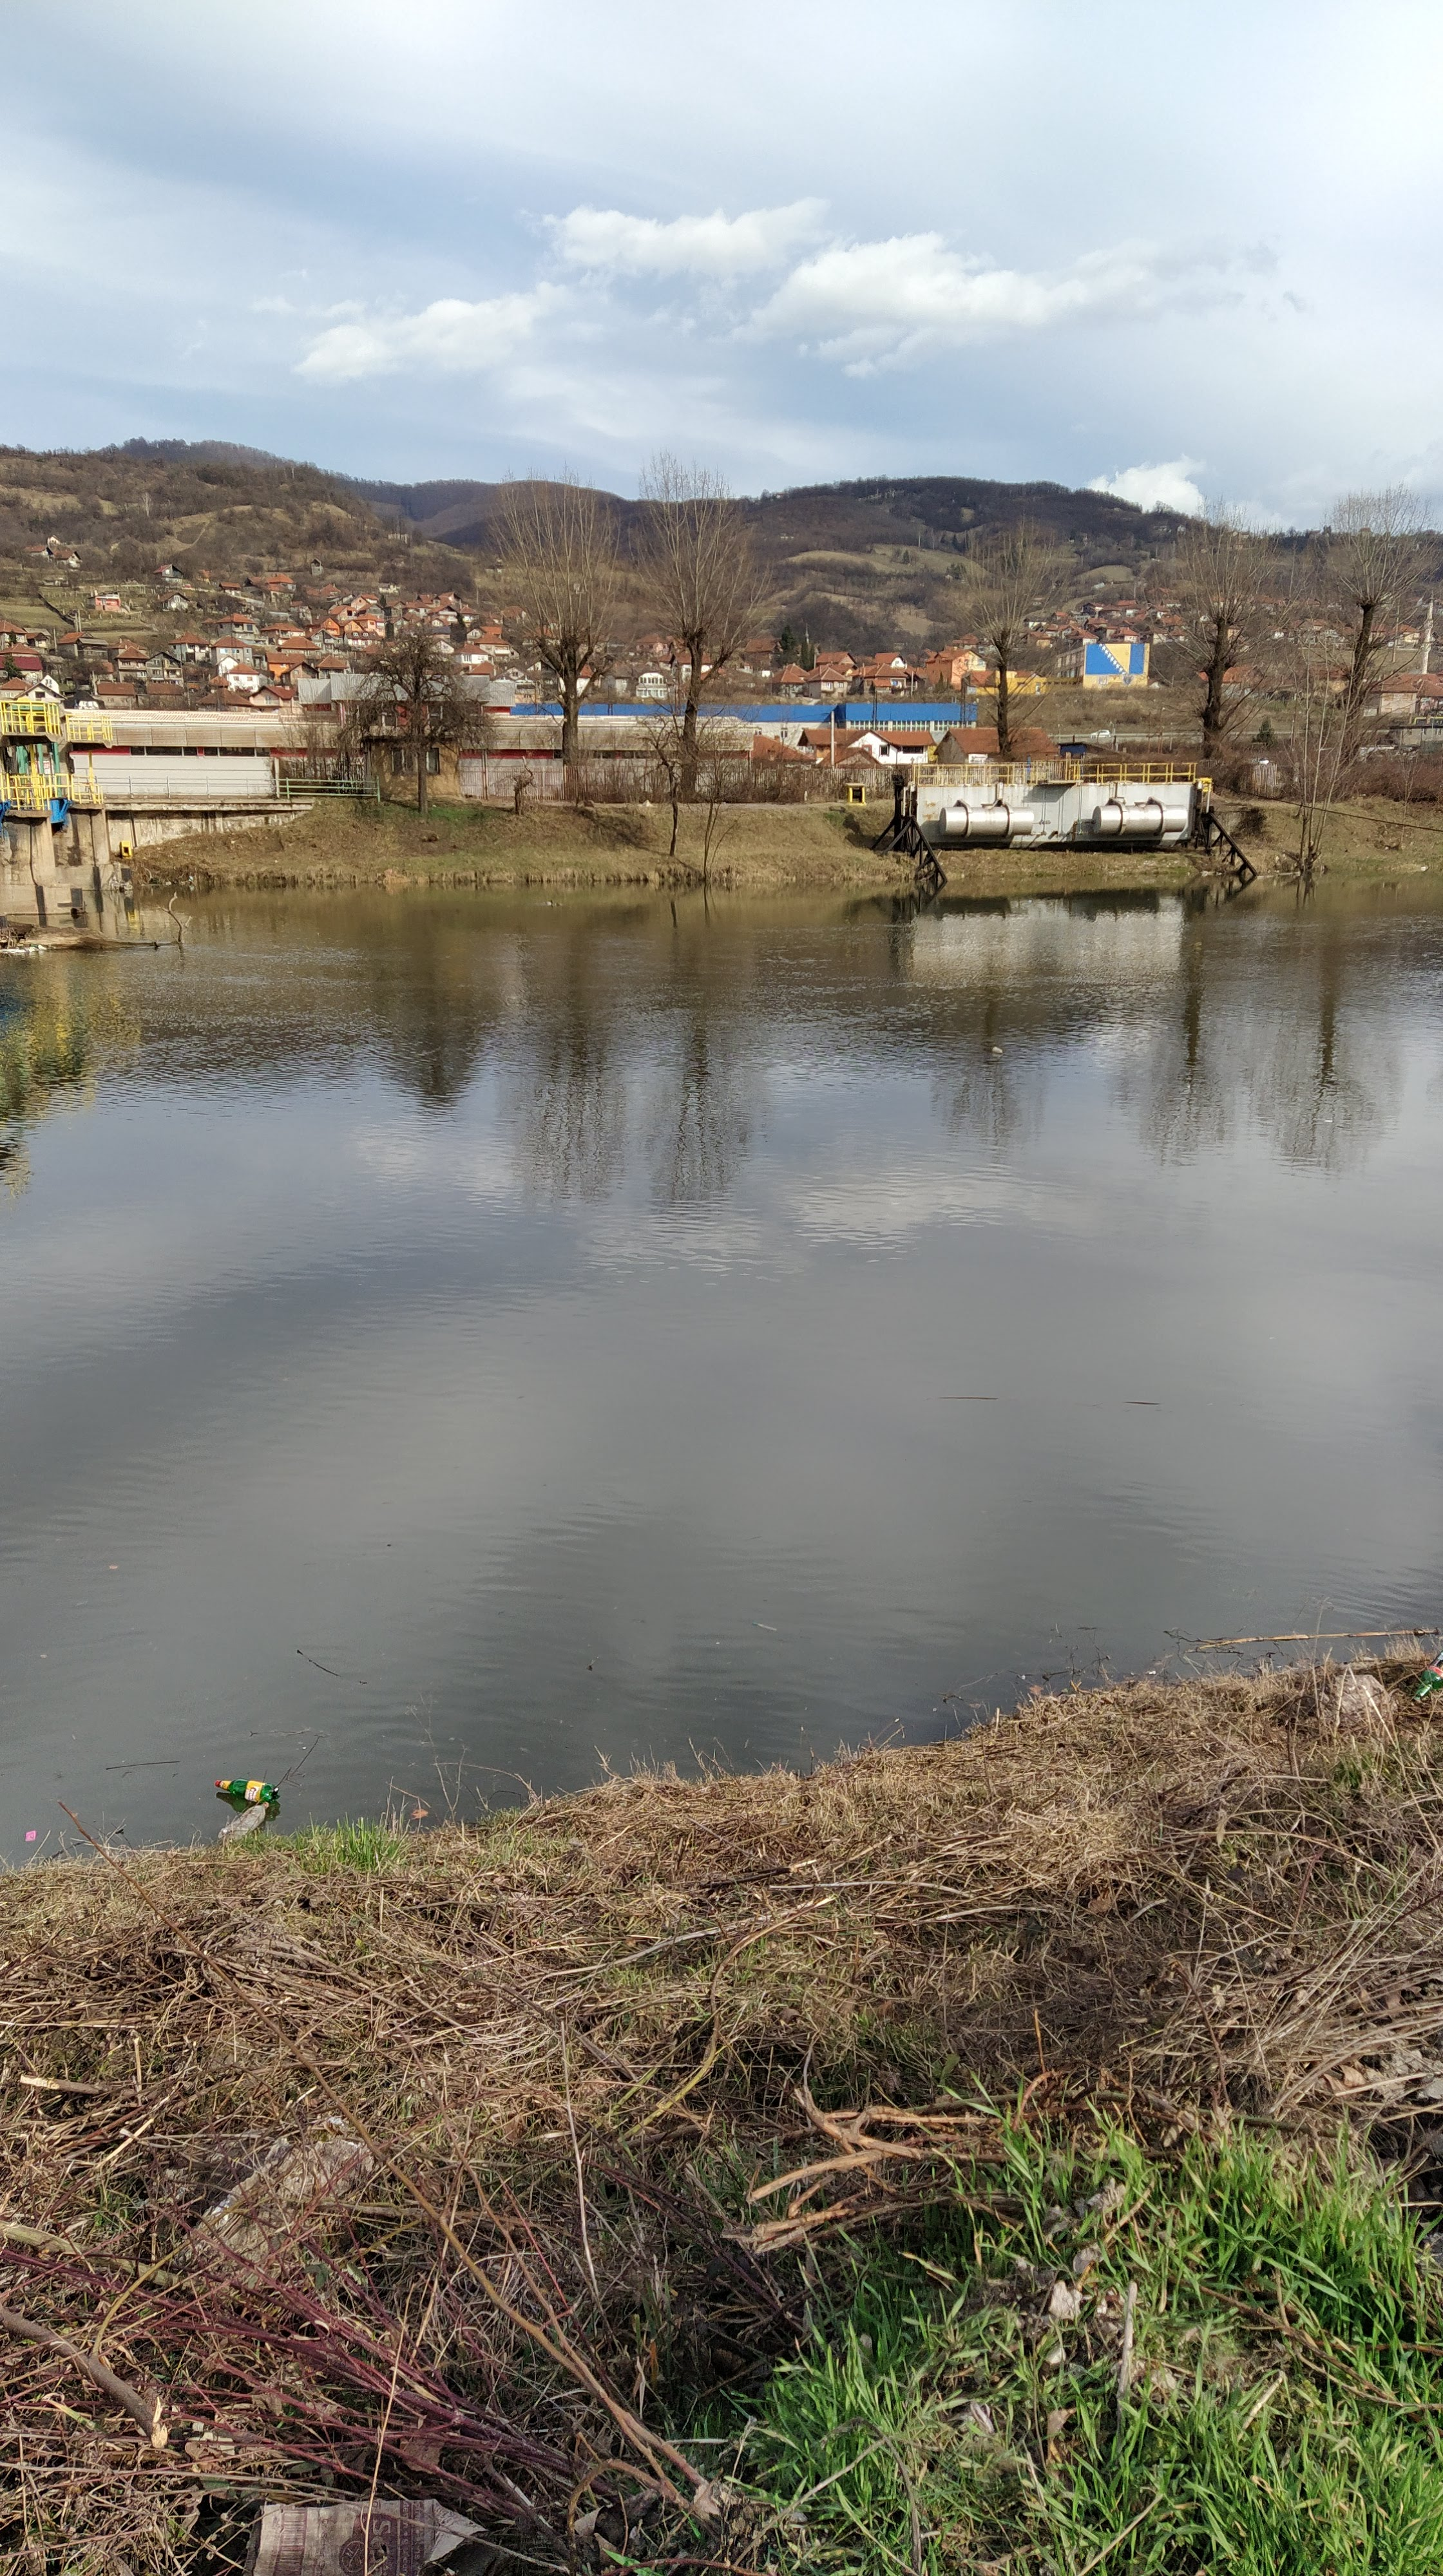Plastic Bottle: (218, 1801, 269, 1842), (216, 1778, 278, 1803), (992, 1046, 1002, 1054)
